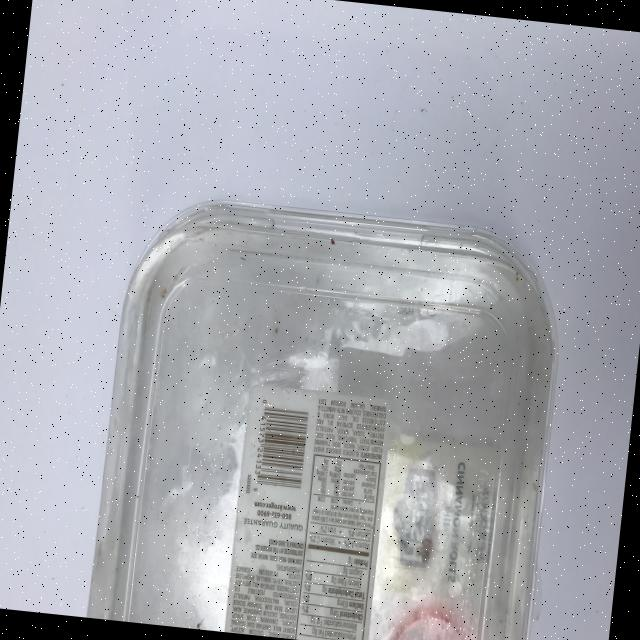plastic: (86, 189, 572, 640)
